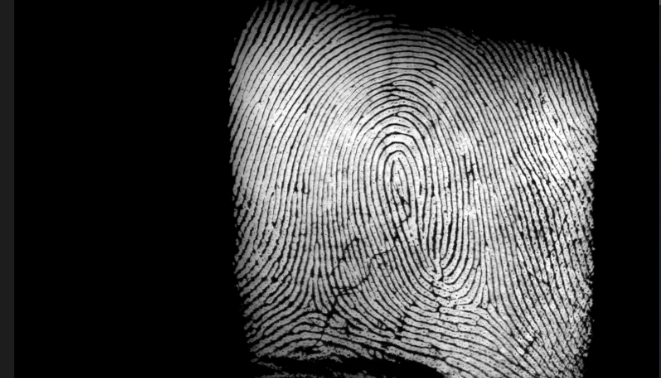nucelo: (380, 151, 417, 205)
verticilo: (297, 284, 327, 322), (468, 287, 493, 315)
